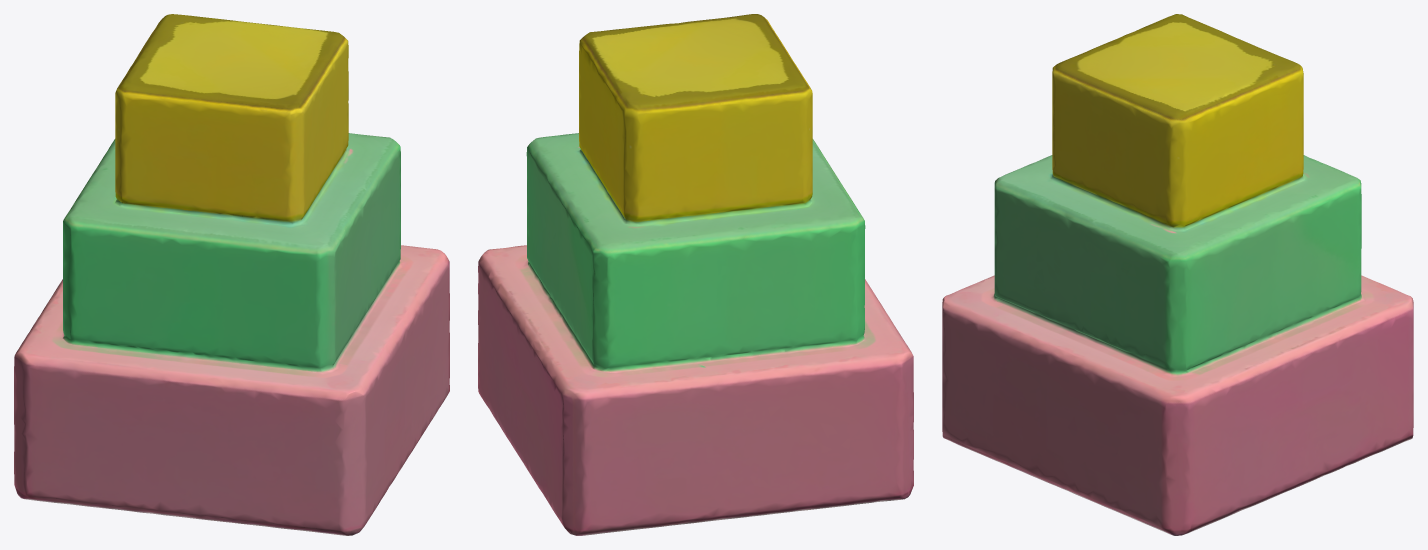
Rendered from GiantCake.obj.
The picture shows the model from 3 angles, left to right: view 1: azimuth 30°, elevation 25°; view 2: azimuth 150°, elevation 25°; view 3: azimuth 270°, elevation 25°; orthographic projection. The views are drawn at different scales.
Parts seen in each view (by area): view 1: input; view 2: input; view 3: input.
Boxes of the visible parts, x1,y1,x2,y2 form: input: (14, 14, 449, 535); input: (478, 14, 913, 535); input: (942, 14, 1413, 535).
Size of the model in its own units: 13.71 by 12 by 13.71.
Materials: 1 (1 with a texture image).
